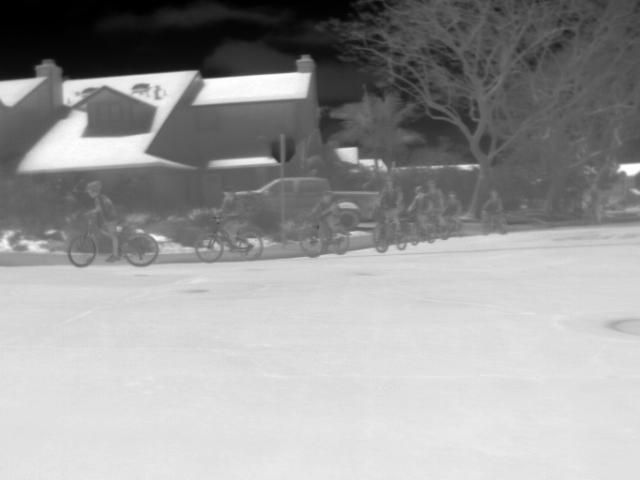car: (285, 176, 379, 222), (236, 176, 279, 222)
person: (80, 182, 122, 262), (307, 194, 347, 247), (213, 190, 243, 252), (379, 176, 401, 243), (406, 184, 434, 232), (484, 188, 507, 229), (444, 191, 464, 225), (584, 182, 601, 219)
